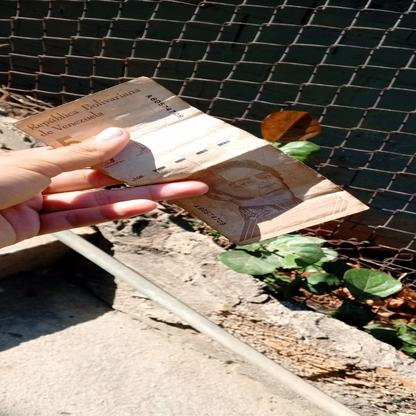five-front-vef: (12, 76, 370, 246)
